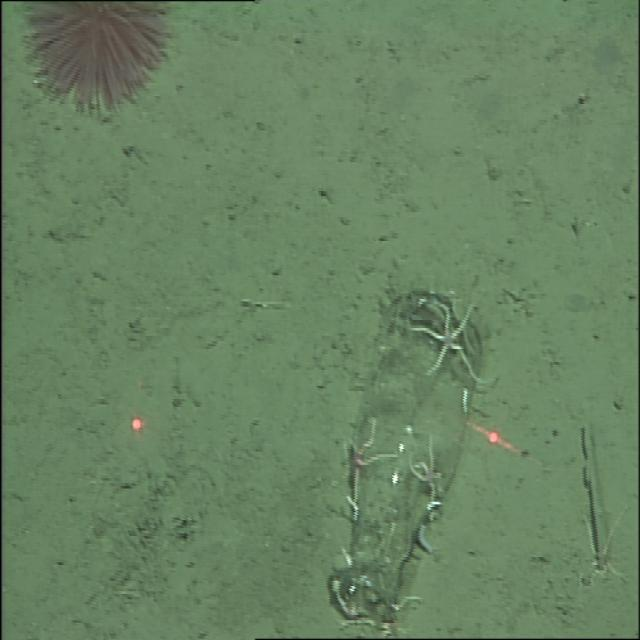Brittle Star: (412, 295, 490, 388), (342, 414, 392, 502), (408, 428, 444, 503)
Not Brittle Star: (16, 1, 178, 121)
